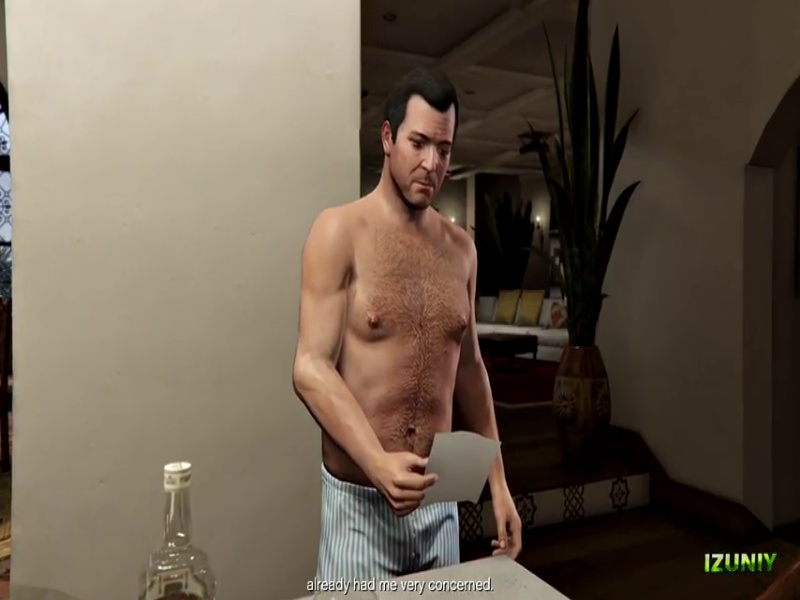human: (294, 83, 508, 570)
